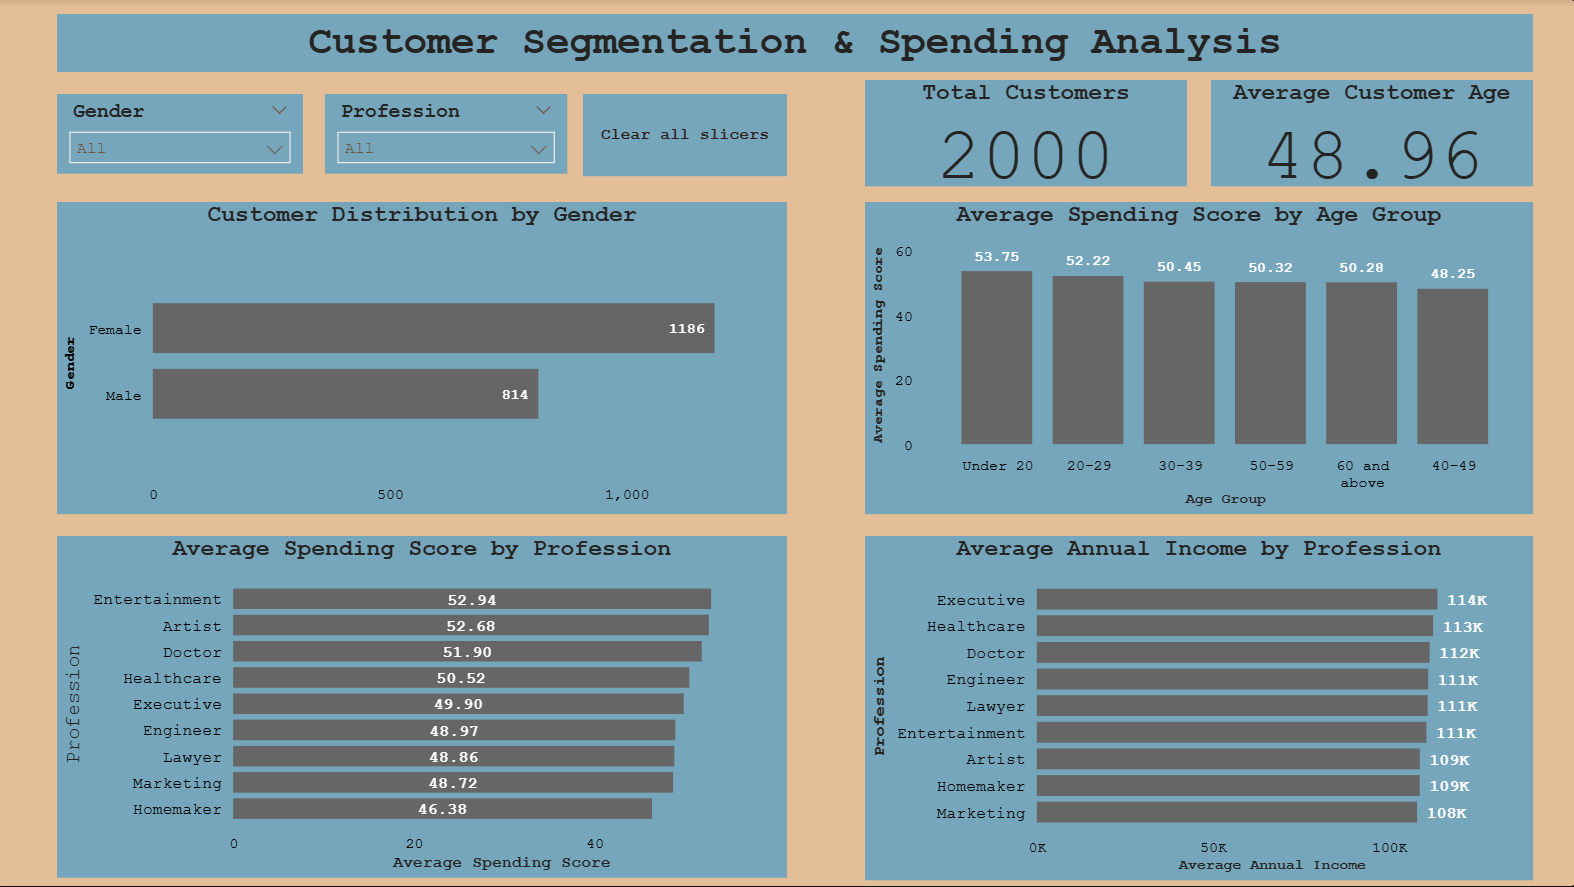

The dashboard page shown, as its layout file describes it:
{"tool":"powerbi","page":{"name":"Page 1","canvas":[1280,720],"ordinal":0},"visuals":[{"type":"card","title":"Total Customers","fields":{"Values":["Count(Customer Segmentation analysis.CustomerID)"]},"box":[703.8,66.3,260.5,85.8],"z":0},{"type":"card","title":"Average Customer Age","fields":{"Values":["Avg(Customer Segmentation analysis.Age)"]},"box":[983.7,66.3,260.5,85.8],"z":1},{"type":"clusteredBarChart","title":"Customer Distribution by Gender","fields":{"Y":["Count(Customer Segmentation analysis.CustomerID)"],"Category":["Customer Segmentation analysis.Gender"]},"box":[50.2,165,590.6,252.4],"z":2},{"type":"clusteredBarChart","title":"Average Spending Score by Profession","fields":{"Category":["Customer Segmentation analysis.Profession"],"Y":["Avg(Customer Segmentation analysis.Spending Score (1-100))"]},"box":[50.2,435.2,590.6,276.7],"z":3},{"type":"clusteredBarChart","title":"Average Annual Income  by Profession","fields":{"Category":["Customer Segmentation analysis.Profession"],"Y":["Avg(Customer Segmentation analysis.Annual Income ($))"]},"box":[703.8,435.2,540.4,278.3],"z":4},{"type":"clusteredColumnChart","title":"Average Spending Score by Age Group","fields":{"Category":["Customer Segmentation analysis.Age Group"],"Y":["Avg(Customer Segmentation analysis.Spending Score (1-100))"]},"box":[703.8,165,540.4,252.4],"z":5},{"type":"textbox","box":[50.2,12.9,1194.1,46.9],"z":6},{"type":"slicer","fields":{"Values":["Customer Segmentation analysis.Gender"]},"box":[50.2,77.7,199,64.7],"z":7},{"type":"slicer","fields":{"Values":["Customer Segmentation analysis.Profession"]},"box":[267,77.7,195.8,64.7],"z":8},{"type":"actionButton","box":[475.7,77.7,165,66.3],"z":9}]}

Visuals, with their boxes in screenshot pixels (x1, y1, x2, y2), scaled from the page's 1280x720 canvas onto the 1574x887 screenshot:
"Total Customers" card: x1=865, y1=82, x2=1186, y2=187
"Average Customer Age" card: x1=1210, y1=82, x2=1530, y2=187
"Customer Distribution by Gender" clusteredBarChart: x1=62, y1=203, x2=788, y2=514
"Average Spending Score by Profession" clusteredBarChart: x1=62, y1=536, x2=788, y2=877
"Average Annual Income  by Profession" clusteredBarChart: x1=865, y1=536, x2=1530, y2=879
"Average Spending Score by Age Group" clusteredColumnChart: x1=865, y1=203, x2=1530, y2=514
textbox: x1=62, y1=16, x2=1530, y2=74
slicer - Customer Segmentation analysis.Gender: x1=62, y1=96, x2=306, y2=175
slicer - Customer Segmentation analysis.Profession: x1=328, y1=96, x2=569, y2=175
actionButton: x1=585, y1=96, x2=788, y2=177
